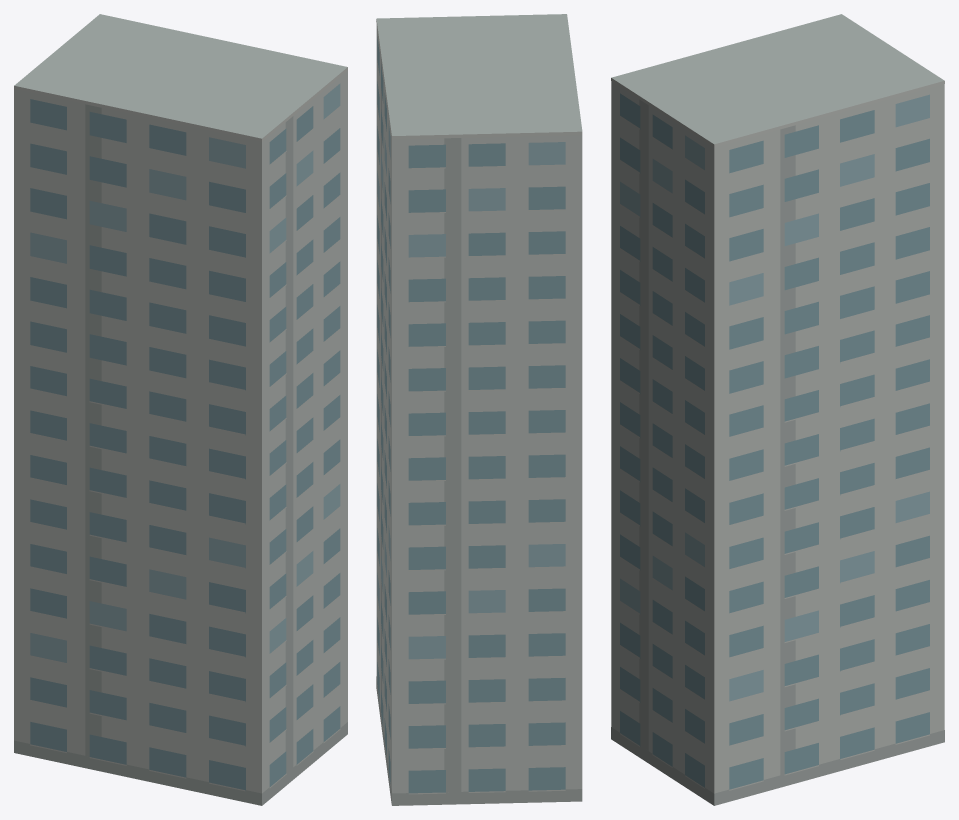
File: residential-3becd68f-5844-48ad-a4dd-fc6f540adb54.glb
3 views of the same model, side by side, from view 1: azimuth 30°, elevation 25°; view 2: azimuth 150°, elevation 25°; view 3: azimuth 270°, elevation 25° (orthographic).
Parts seen in each view (by area): view 1: residential-3becd68f-5844-48ad-a4dd-fc6f540adb54.tmp; view 2: residential-3becd68f-5844-48ad-a4dd-fc6f540adb54.tmp; view 3: residential-3becd68f-5844-48ad-a4dd-fc6f540adb54.tmp.
Boxes of the visible parts, left/top/right/bottom form: residential-3becd68f-5844-48ad-a4dd-fc6f540adb54.tmp: left=14, top=14, right=347, bottom=805; residential-3becd68f-5844-48ad-a4dd-fc6f540adb54.tmp: left=376, top=14, right=582, bottom=805; residential-3becd68f-5844-48ad-a4dd-fc6f540adb54.tmp: left=611, top=14, right=944, bottom=805.
Bounding box in the file's own units: 20.3 × 48 × 21.95.
